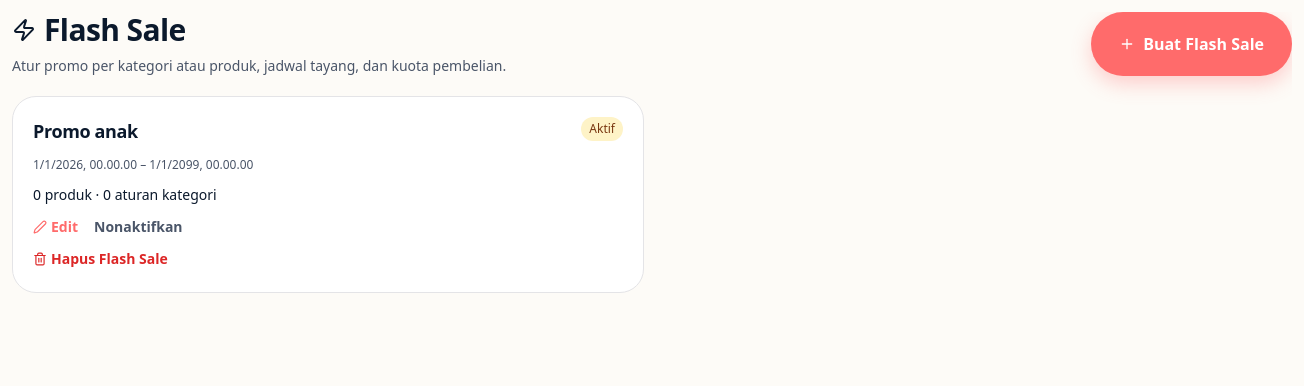
Test: campaign history rejection is displayed without removing the campaign
The image size is (1304, 386).
Step 1. Click the button with test id "delete-flash-sale" → (100,259), box [33,249,168,269]
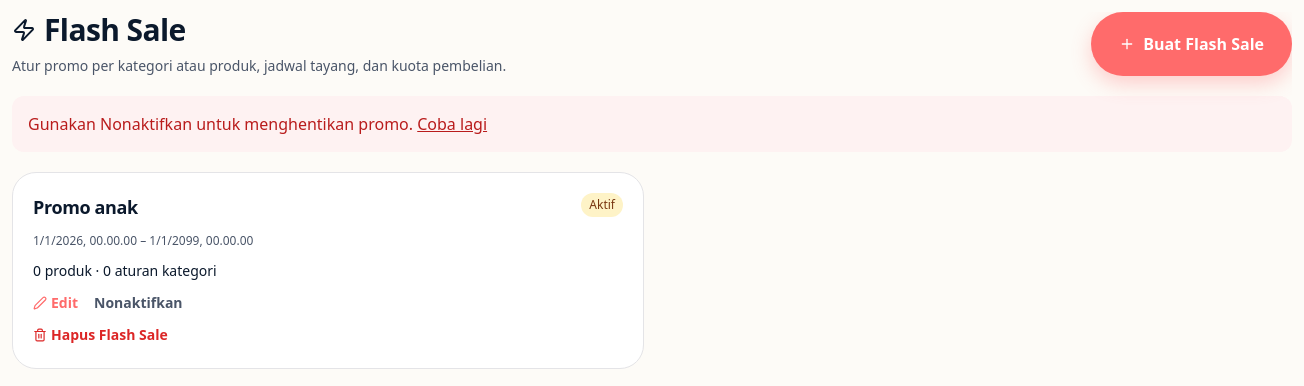
Expected: the element with test id "flash-sale" is shown, [12,172,644,369]
Expected: the message "Gunakan Nonaktifkan untuk menghentikan promo. Coba lagi" is shown, [12,96,1292,152]
